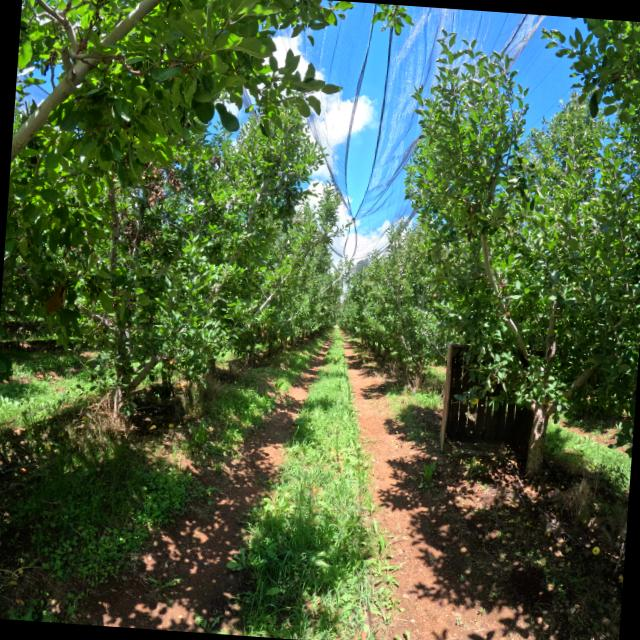-FireBlight-: (144, 163, 183, 207)
